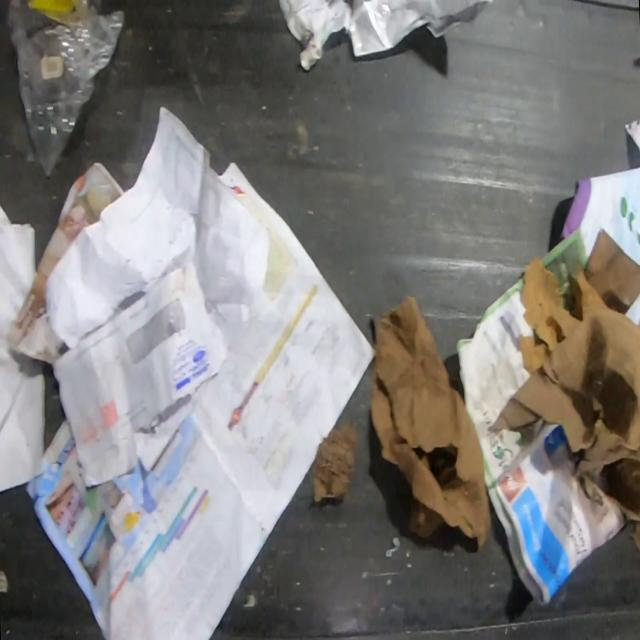cardboard: (488, 225, 640, 522), (369, 295, 490, 551), (313, 422, 358, 505)
rigid_plastic: (8, 1, 123, 176)
